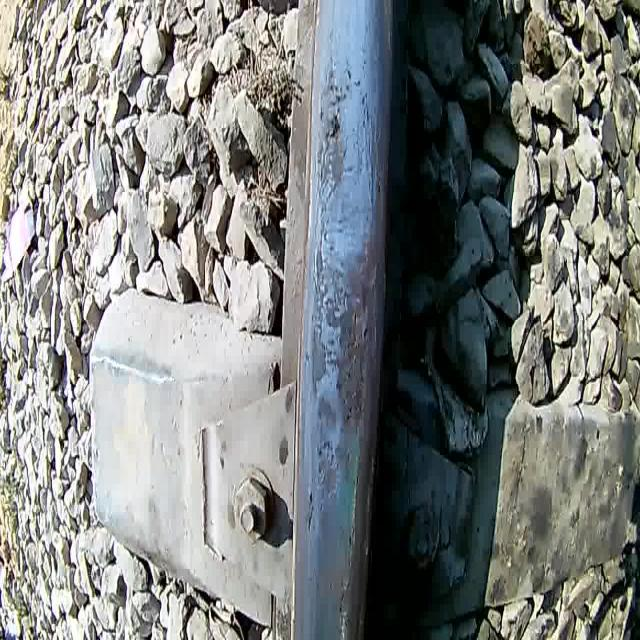Spallings: (303, 479, 320, 543), (323, 110, 345, 145)
Squats: (293, 54, 386, 640)
